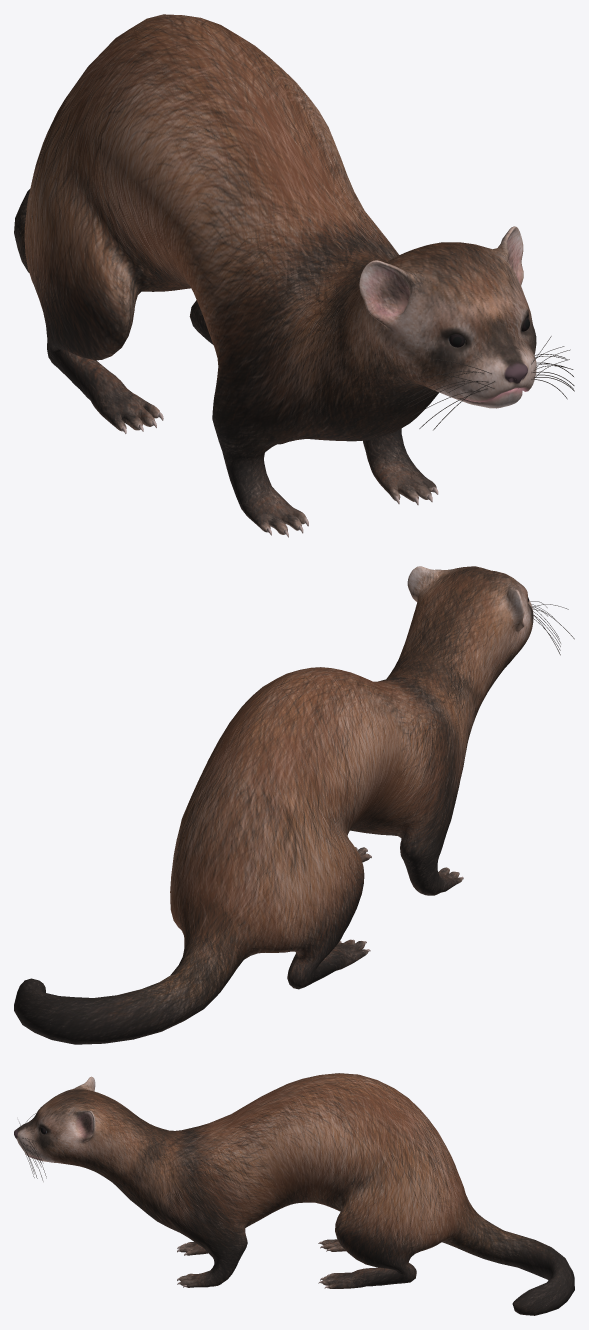
File: nutria.glb
The picture shows the model from 3 angles, top to bottom: view 1: azimuth 30°, elevation 25°; view 2: azimuth 150°, elevation 25°; view 3: azimuth 270°, elevation 25°; orthographic projection. The views are drawn at different scales.
Visible parts, largest first — view 1: node_id90; view 2: node_id90; view 3: node_id90.
Boxes of the visible parts, <box> form: node_id90: <box>14,14,574,537</box>; node_id90: <box>14,566,574,1044</box>; node_id90: <box>14,1073,574,1315</box>.
Bounding box in the file's own units: 0.4482 × 0.512 × 1.35.
1 material, 1 textured.
